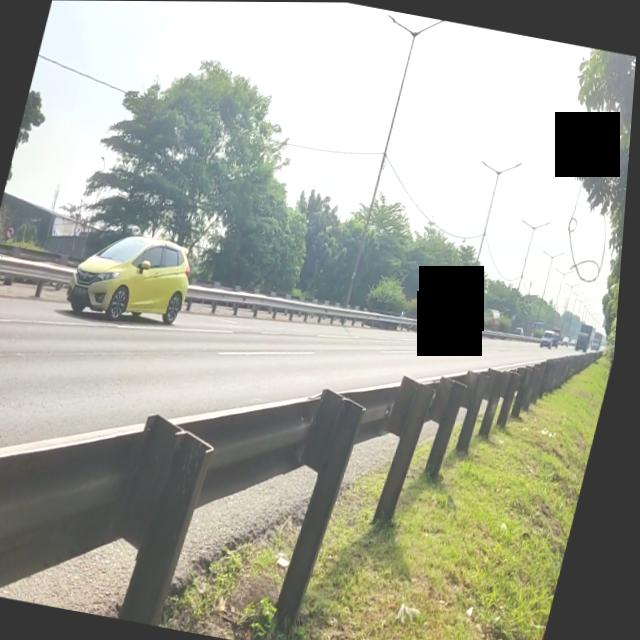Golongan I: (63, 220, 205, 335)
